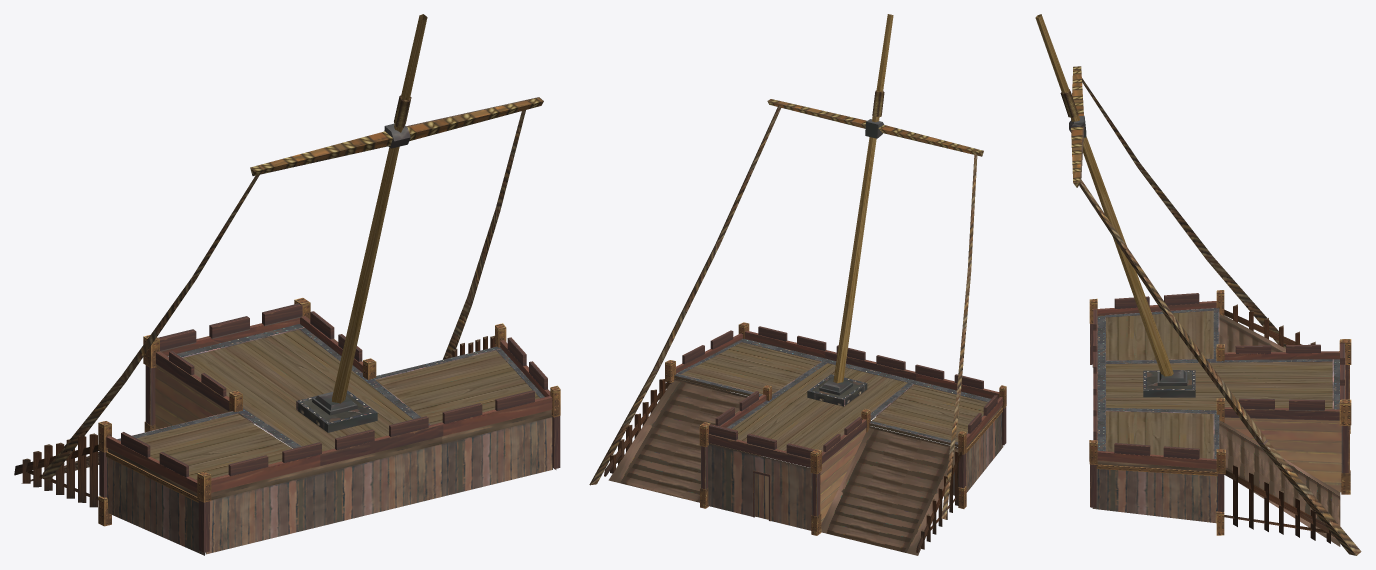
The model's file is oBldShipT03.FBX.
The picture shows the model from 3 angles, left to right: view 1: azimuth 30°, elevation 25°; view 2: azimuth 150°, elevation 25°; view 3: azimuth 270°, elevation 25°; orthographic projection. The views are drawn at different scales.
Parts seen in each view (by area): view 1: oBldShipT03; view 2: oBldShipT03; view 3: oBldShipT03.
Boxes of the visible parts, x1=… form: oBldShipT03: x1=14, y1=14, x2=560, y2=555; oBldShipT03: x1=589, y1=14, x2=1006, y2=555; oBldShipT03: x1=1035, y1=14, x2=1361, y2=555.
Size of the model in its own units: 161 by 191 by 124.
1 material, 1 textured.
